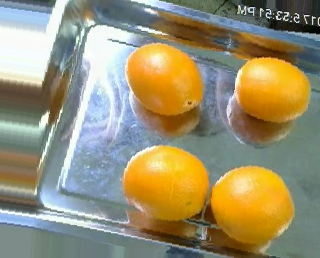Orange: (209, 165, 294, 244), (122, 143, 208, 219), (125, 42, 203, 116), (233, 56, 310, 122)
